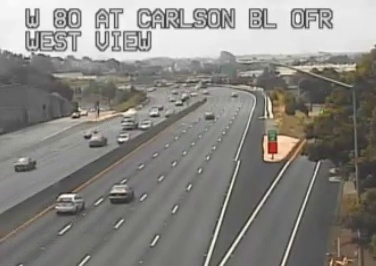car: (54, 193, 84, 211), (109, 184, 133, 202)
